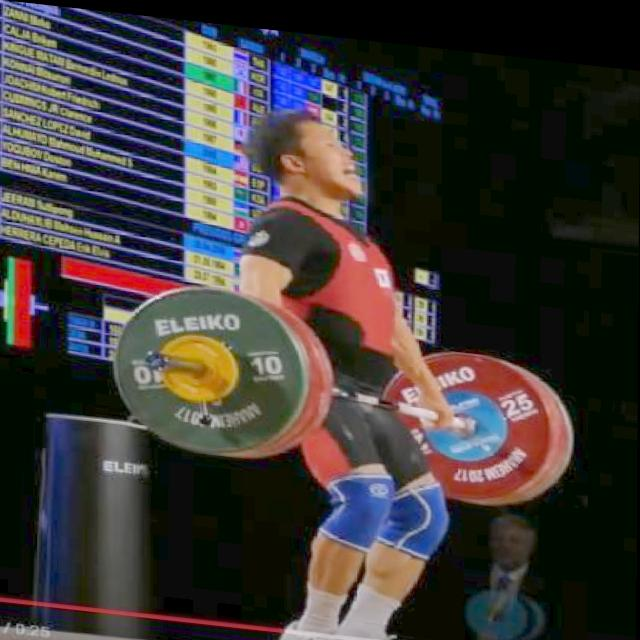barbell: (114, 262, 310, 467)
